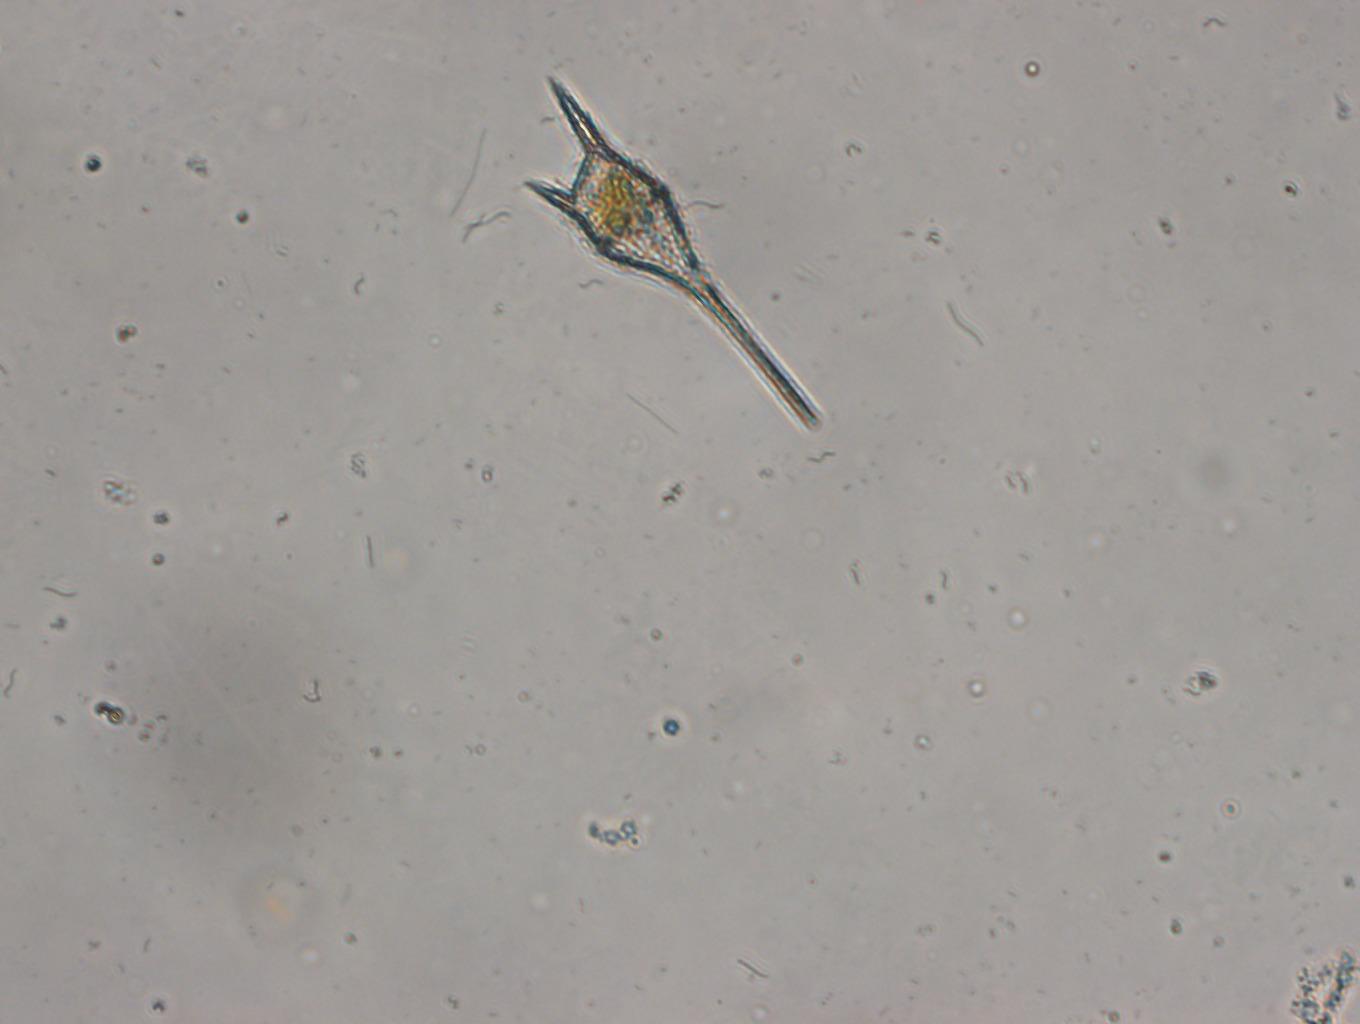ceratium furca: (519, 73, 824, 439)
